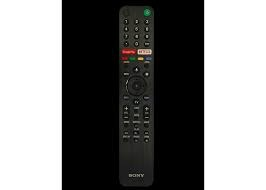remote control: (118, 6, 155, 188)
